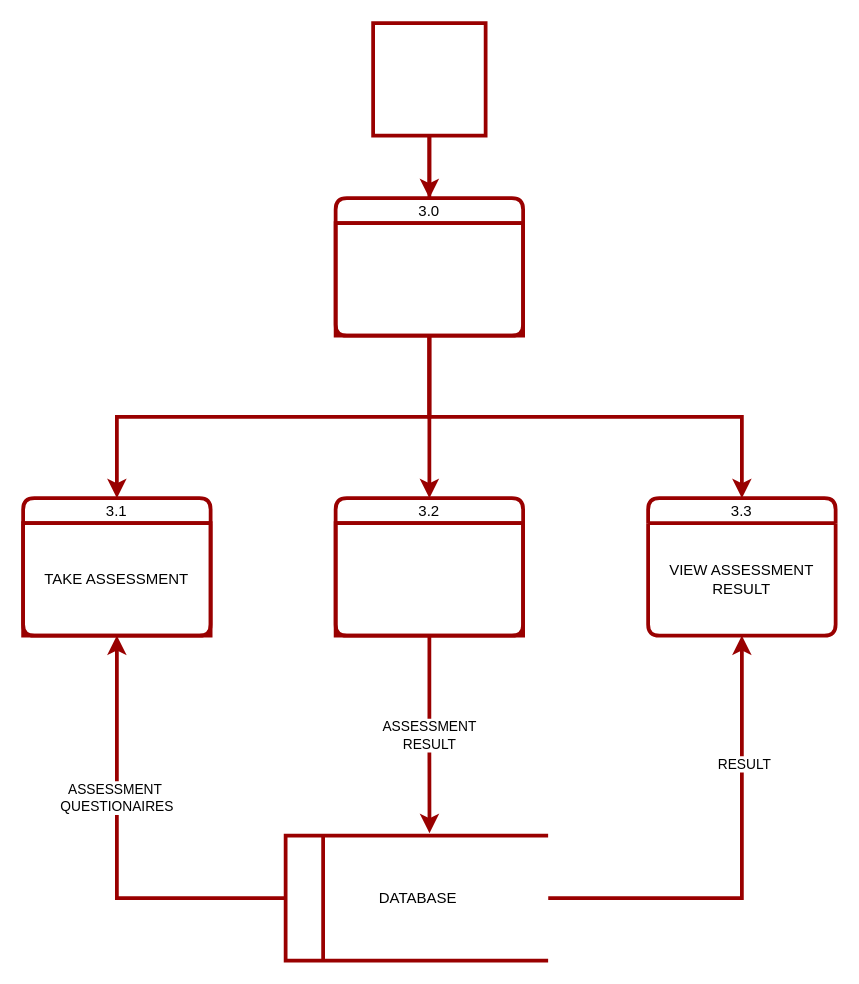
Some shapes in this 859 by 984 pixel diagram are drawn without their labels. The centre of each missing label's shape, as x and y in pixels:
"ASSESSMENT" goes at point 428,279.
"STUDENT" goes at point 429,79.
"SUBMIT ANSWER" goes at point 428,579.
